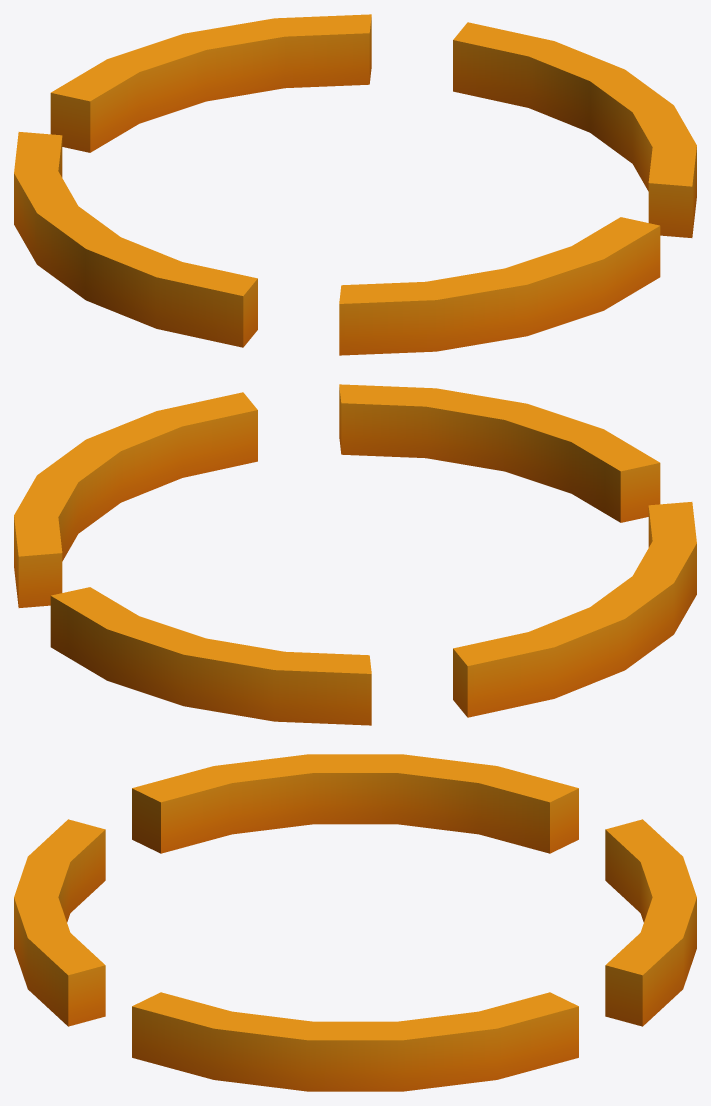
The model's file is Selection_Pointer_02.glb.
3 views of the same model, one above another, from view 1: azimuth 30°, elevation 25°; view 2: azimuth 150°, elevation 25°; view 3: azimuth 270°, elevation 25° (orthographic).
Parts seen in each view (by area): view 1: Selection_Pointer_02; view 2: Selection_Pointer_02; view 3: Selection_Pointer_02.
Part boxes in pixels (bbox=[...]): Selection_Pointer_02: bbox=[14, 14, 696, 355]; Selection_Pointer_02: bbox=[14, 384, 696, 725]; Selection_Pointer_02: bbox=[14, 754, 696, 1091].
Bounding box in the file's own units: 1.09 × 0.0911 × 1.1.
1 material, 1 textured.
